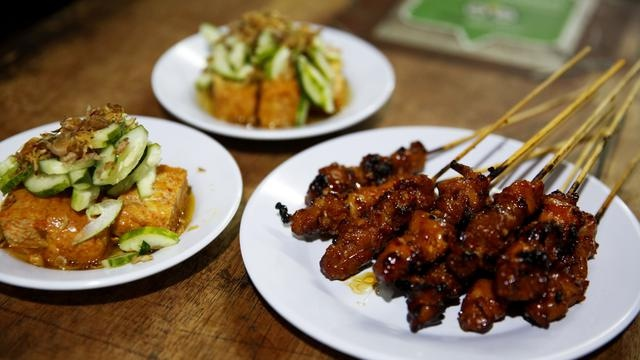sate: (284, 137, 598, 335)
